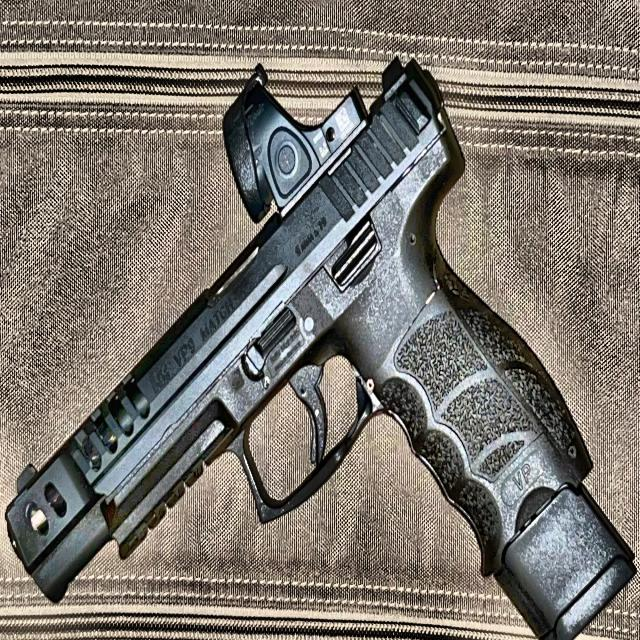HKVP9: (4, 53, 635, 636)
